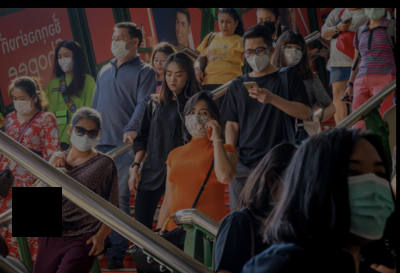with_mask: (346, 156, 394, 240), (183, 106, 212, 138), (69, 124, 98, 152), (244, 44, 270, 74), (109, 32, 131, 59), (10, 93, 33, 115), (282, 43, 303, 66), (255, 14, 276, 35), (55, 50, 73, 73), (363, 8, 385, 20)
without_mask: (163, 68, 186, 91), (217, 16, 235, 35), (152, 55, 166, 74)
